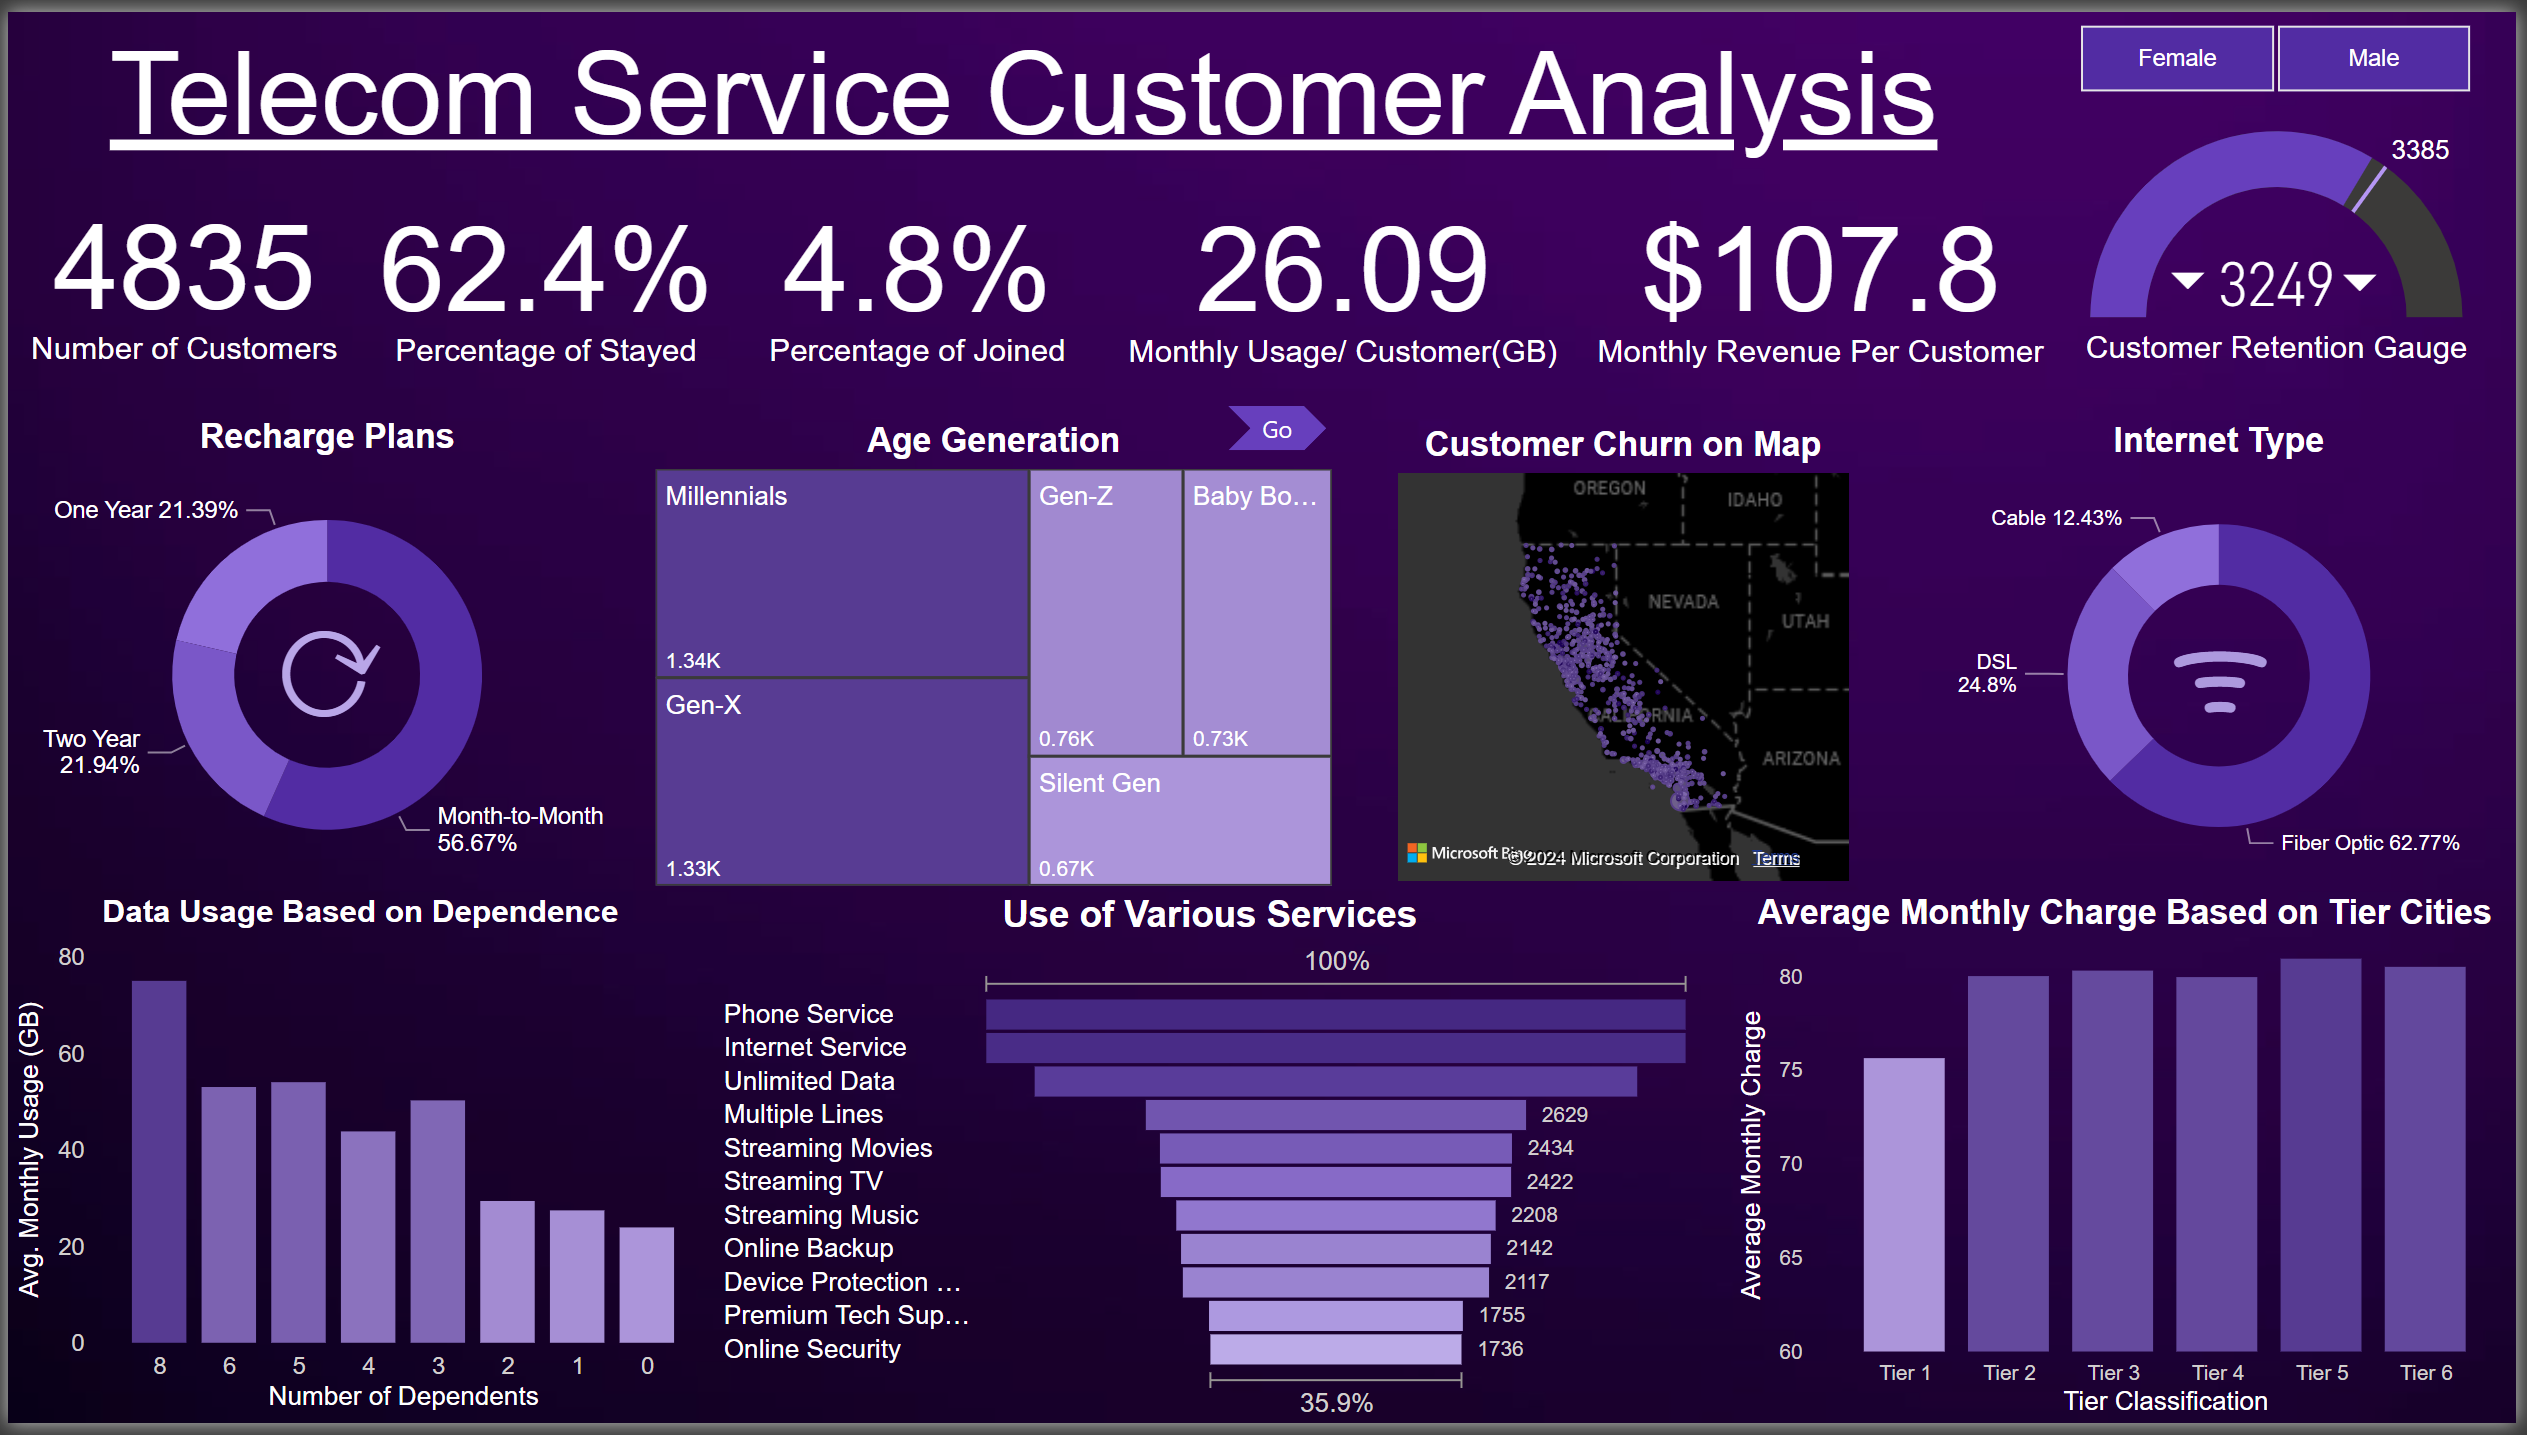

The page's visual inventory and layout, read from the dashboard file:
{"tool":"powerbi","page":{"name":"Analysis","canvas":[1280,720],"ordinal":1},"visuals":[{"type":"card","fields":{"Values":["CountNonNull(telecom_customer_churn.Customer ID)"]},"box":[0,78.6,180,111.4],"z":0},{"type":"card","fields":{"Values":["telecom_customer_churn.Percent of Stayed"]},"box":[180,80,190,111.4],"z":1000},{"type":"card","fields":{"Values":["Avg(telecom_customer_churn.Avg Monthly GB Download)"]},"box":[557.4,79.4,247.9,111.8],"z":2000},{"type":"card","fields":{"Values":["Avg(telecom_customer_churn.Monthly Revenue)"]},"box":[803.6,79.4,241.4,111.8],"z":3000},{"type":"treemap","title":"Age Generation","fields":{"Group":["telecom_customer_churn.Generation"],"Values":["CountNonNull(telecom_customer_churn.Customer ID)"]},"box":[325.7,209,354.8,241.4],"z":4000},{"type":"gauge","title":"Customer Retention Gauge","fields":{"MaxValue":["telecom_customer_churn.total customer"],"TargetValue":["telecom_customer_churn.Retaintion Rate"],"Y":["Sum(telecom_customer_churn.Retention)"]},"box":[1048.3,48.6,218.7,111.8],"z":5000},{"type":"textbox","box":[1054.8,157.2,225.2,32.4],"z":6000},{"type":"donutChart","title":"Internet Type","fields":{"Category":["telecom_customer_churn.Internet Type"],"Y":["CountNonNull(telecom_customer_churn.Customer ID)"]},"box":[972.2,209,311.1,239.8],"z":7000},{"type":"clusteredColumnChart","title":"Data Usage Based on Dependence","fields":{"Category":["telecom_customer_churn.Number of Dependents"],"Y":["Avg(telecom_customer_churn.Avg Monthly GB Download)"]},"box":[0,450.4,359.7,269],"z":8000},{"type":"funnel","title":"Use of Various Services","fields":{"Y":["Sum(telecom_customer_churn.Phone Service)","Sum(telecom_customer_churn.Internet Service)","Sum(telecom_customer_churn.Unlimited Data)","Sum(telecom_customer_churn.Multiple Lines)","Sum(telecom_customer_churn.Streaming Movies)","Sum(telecom_customer_churn.Streaming TV)","Sum(telecom_customer_churn.Streaming Music)","Sum(telecom_customer_churn.Online Backup)","Sum(telecom_customer_churn.Device Protection Plan)","Sum(telecom_customer_churn.Premium Tech Support)","Sum(telecom_customer_churn.Online Security)"]},"box":[360,450,505.7,272.9],"z":9000},{"type":"donutChart","title":"Recharge Plans","fields":{"Y":["CountNonNull(telecom_customer_churn.Customer ID)"],"Category":["telecom_customer_churn.Contract"]},"box":[0,207.4,325.7,243],"z":10000},{"type":"shape","box":[622.2,200.9,50.2,22.7],"z":11000},{"type":"clusteredColumnChart","title":"Average Monthly Charge Based on Tier Cities","fields":{"Category":["telecom_zipcode_population.Tier Classification"],"Y":["Avg(telecom_customer_churn.Monthly Charge)"]},"box":[878.6,450,402.9,271.4],"z":12000},{"type":"map","title":"Customer Churn on Map","fields":{"Y":["telecom_customer_churn.Latitude"],"X":["telecom_customer_churn.Longitude"],"Size":["CountNonNull(telecom_customer_churn.Churn Category)"],"Category":["telecom_customer_churn.City"]},"box":[703.9,210.9,239.9,237.3],"z":13000},{"type":"card","fields":{"Values":["telecom_customer_churn.Percentage of Joined"]},"box":[370,80,187.1,111.4],"z":14000},{"type":"slicer","fields":{"Values":["telecom_customer_churn.Gender"]},"box":[1033.5,0,246.5,47.5],"z":15000},{"type":"textbox","box":[46.7,3.3,966.7,88.3],"z":16000},{"type":"card","fields":{"Values":["telecom_customer_churn.Retain Status"]},"box":[1080.7,106.9,64.8,55.1],"z":17000},{"type":"card","fields":{"Values":["telecom_customer_churn.Retain Status"]},"box":[1168.2,108.6,64.8,55.1],"z":18000},{"type":"textbox","box":[131.8,299.2,67.2,83],"z":19000},{"type":"textbox","box":[1096.9,257.6,97.2,160.4],"z":20000}]}

Visuals, with their boxes in screenshot pixels (x1, y1, x2, y2), scaled from the page's 1280x720 canvas onto the 2527x1435 screenshot:
card - CountNonNull(telecom_customer_churn.Customer ID): 0, 157, 355, 379
card - telecom_customer_churn.Percent of Stayed: 355, 159, 730, 381
card - Avg(telecom_customer_churn.Avg Monthly GB Download): 1100, 158, 1590, 381
card - Avg(telecom_customer_churn.Monthly Revenue): 1586, 158, 2063, 381
"Age Generation" treemap: 643, 417, 1343, 898
"Customer Retention Gauge" gauge: 2070, 97, 2501, 320
textbox: 2082, 313, 2526, 378
"Internet Type" donutChart: 1919, 417, 2526, 894
"Data Usage Based on Dependence" clusteredColumnChart: 0, 898, 710, 1434
"Use of Various Services" funnel: 711, 897, 1709, 1434
"Recharge Plans" donutChart: 0, 413, 643, 898
shape: 1228, 400, 1327, 446
"Average Monthly Charge Based on Tier Cities" clusteredColumnChart: 1735, 897, 2526, 1434
"Customer Churn on Map" map: 1390, 420, 1863, 893
card - telecom_customer_churn.Percentage of Joined: 730, 159, 1100, 381
slicer - telecom_customer_churn.Gender: 2040, 0, 2526, 95
textbox: 92, 7, 2001, 183
card - telecom_customer_churn.Retain Status: 2134, 213, 2261, 323
card - telecom_customer_churn.Retain Status: 2306, 216, 2434, 326
textbox: 260, 596, 393, 762
textbox: 2166, 513, 2357, 833
